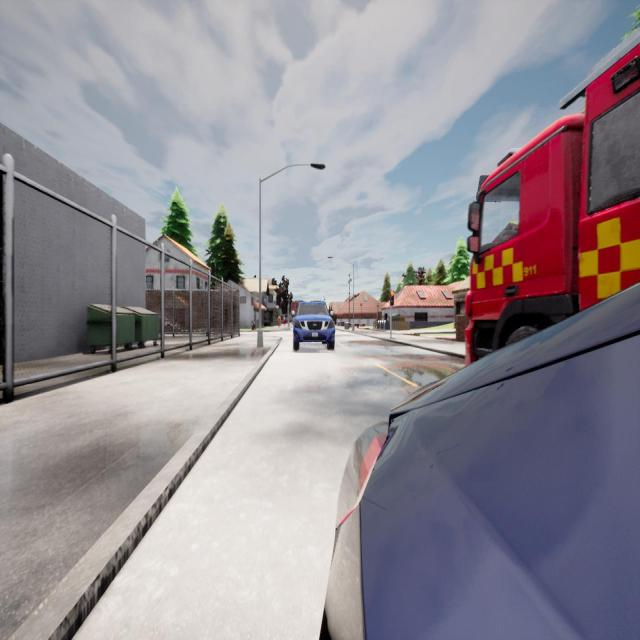Pedestrian: (283, 314, 286, 326), (278, 314, 280, 327)
Vehicle: (326, 289, 640, 637), (467, 45, 640, 367), (293, 301, 335, 351)
traffic_light: (390, 292, 394, 305)
